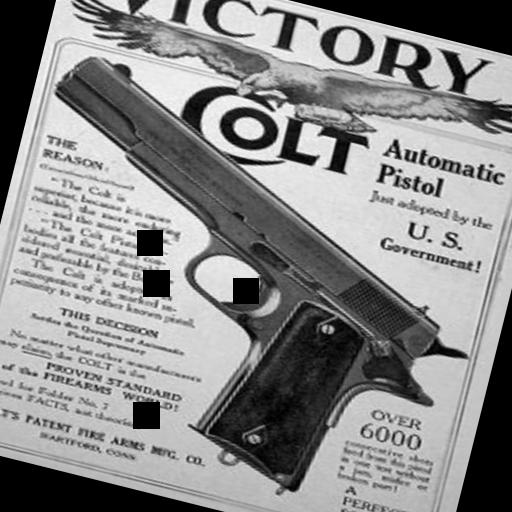Handgun: (0, 43, 512, 512)
